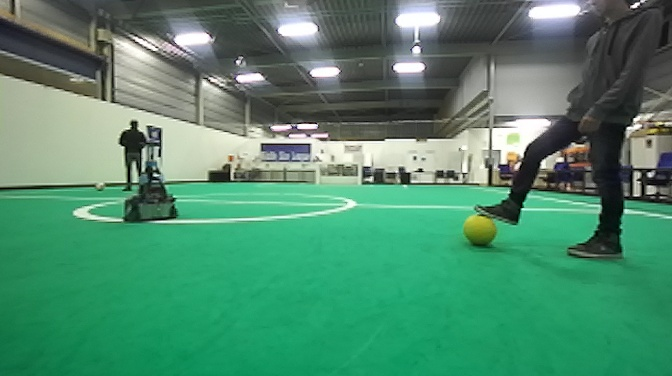ball: (459, 209, 501, 254), (93, 179, 106, 192)
goal: (315, 159, 363, 189)
goalpost: (356, 161, 363, 188), (314, 160, 320, 186)
human: (472, 1, 672, 263), (114, 118, 147, 192)
robot: (122, 138, 181, 228)
